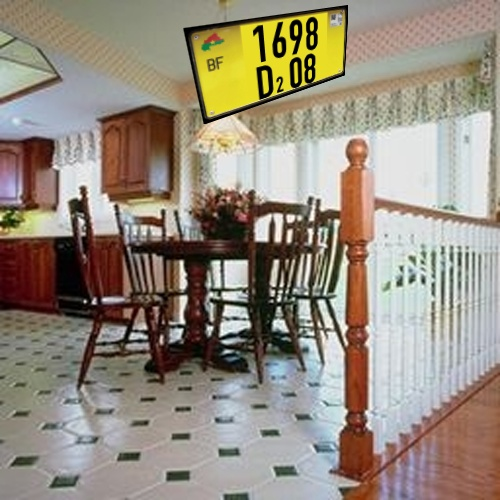plate: (182, 6, 382, 128)
